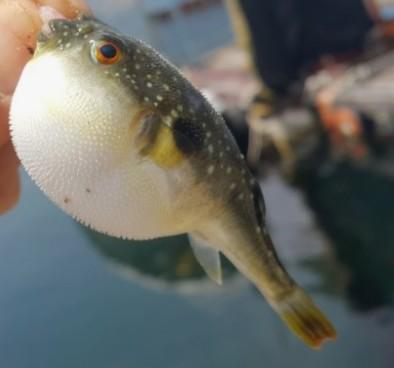fish: (10, 12, 335, 346)
